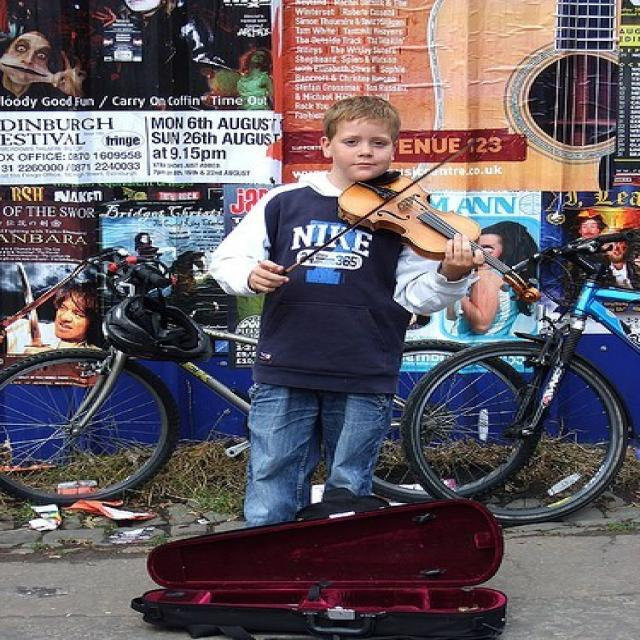guitar: (411, 0, 640, 191)
violin: (334, 173, 544, 306)
